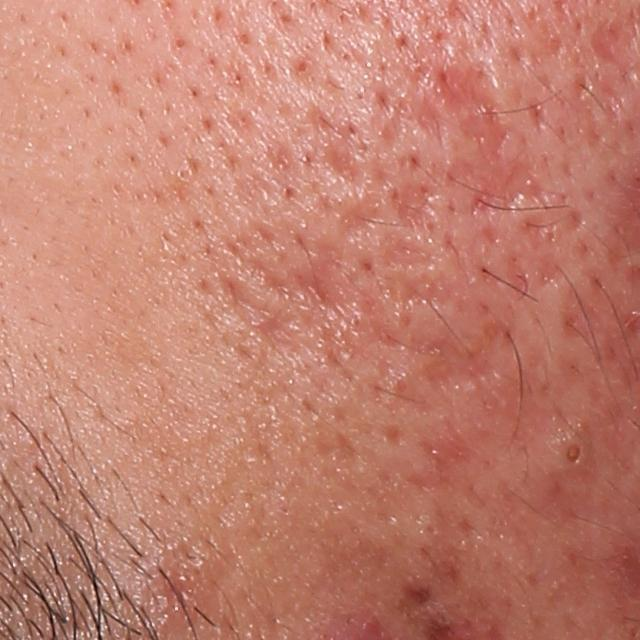atrophic_scar: (430, 57, 518, 165), (408, 317, 513, 392), (220, 272, 296, 344), (471, 162, 561, 220), (261, 265, 367, 311), (377, 274, 478, 315), (391, 180, 445, 233), (335, 197, 386, 235), (318, 140, 359, 187), (379, 235, 435, 266), (418, 95, 444, 149), (520, 212, 555, 252), (393, 583, 436, 613), (528, 251, 560, 290)
comedo: (544, 419, 593, 479)
